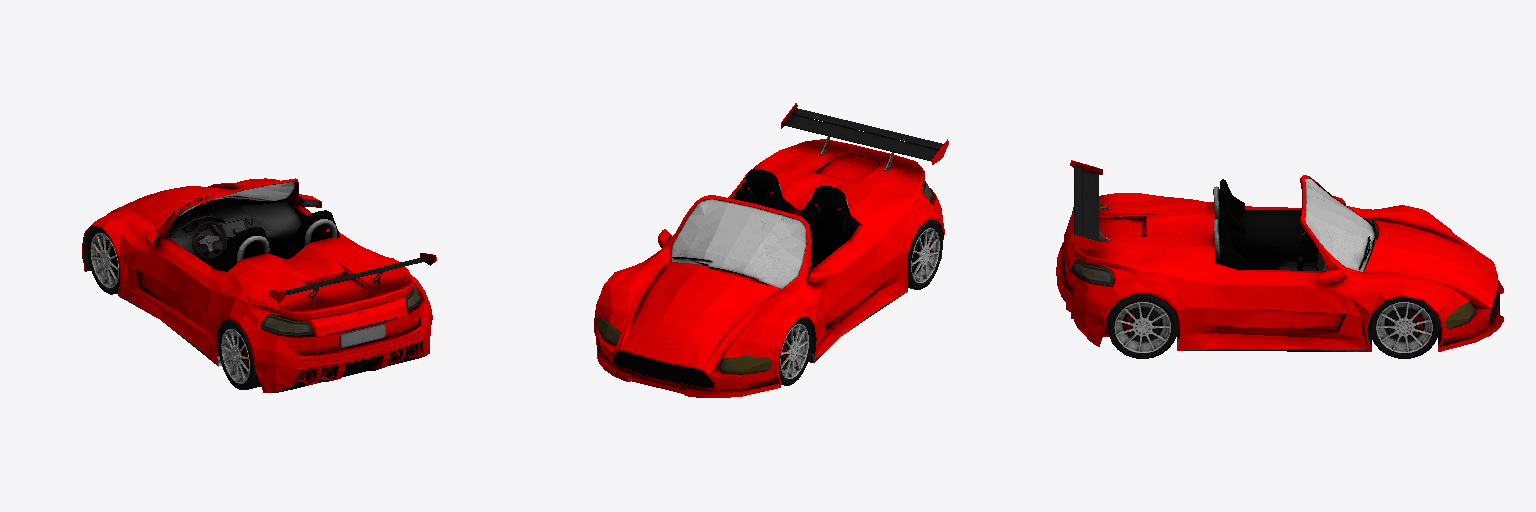
3 renders of one model, left to right at view 1: azimuth 30°, elevation 25°; view 2: azimuth 150°, elevation 25°; view 3: azimuth 270°, elevation 25°, orthographic.
Visible parts, largest first — view 1: Hull; view 2: Hull; view 3: Hull.
Part boxes in pixels (x1,y1,x2,y2): Hull: (82, 178, 436, 392); Hull: (594, 103, 948, 397); Hull: (1056, 160, 1503, 358).
Bounding box in the file's own units: 188 × 118 × 396.
Materials: 2 (1 with a texture image).